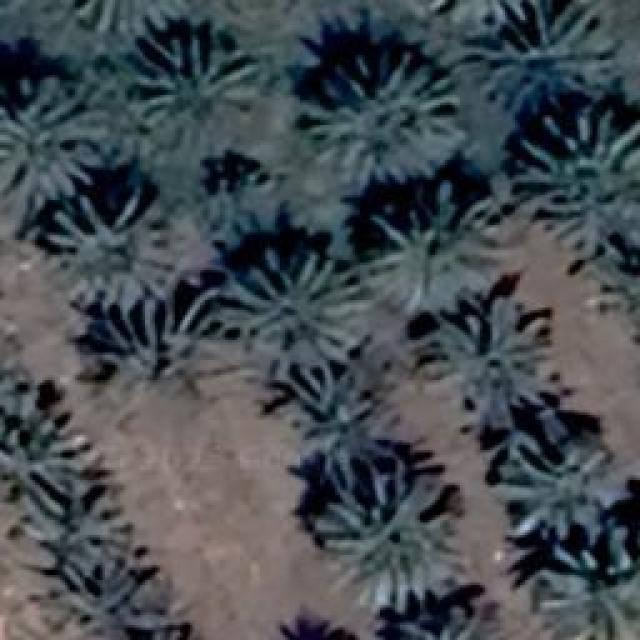PalmTree: (135, 47, 434, 612), (308, 460, 460, 610), (300, 45, 460, 185), (120, 30, 260, 168), (415, 295, 560, 423), (360, 182, 502, 310), (37, 182, 185, 302), (510, 102, 638, 240), (225, 245, 365, 370), (477, 0, 617, 112), (492, 425, 618, 540), (0, 77, 102, 200), (530, 530, 635, 635), (22, 475, 136, 570), (108, 304, 226, 392), (282, 368, 370, 462), (192, 160, 278, 248), (56, 567, 153, 640), (0, 384, 65, 472), (597, 223, 640, 334), (0, 346, 39, 448), (268, 0, 366, 33), (424, 0, 536, 25)
